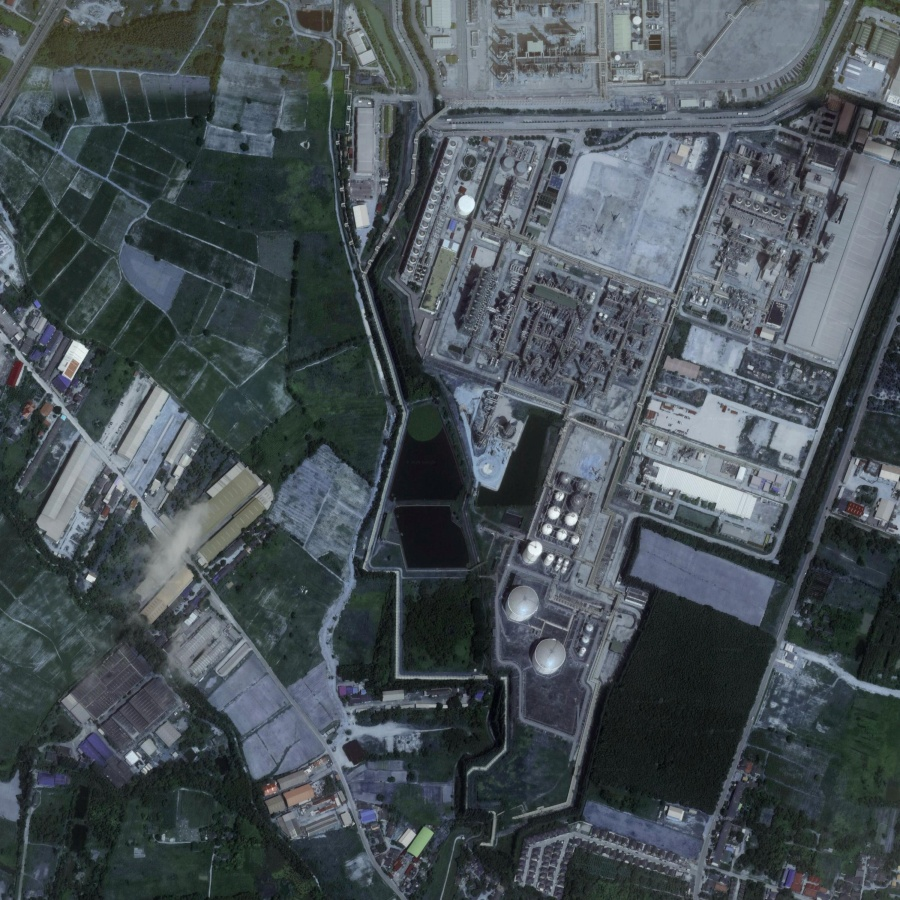PowerPlant: (416, 228, 667, 687)
